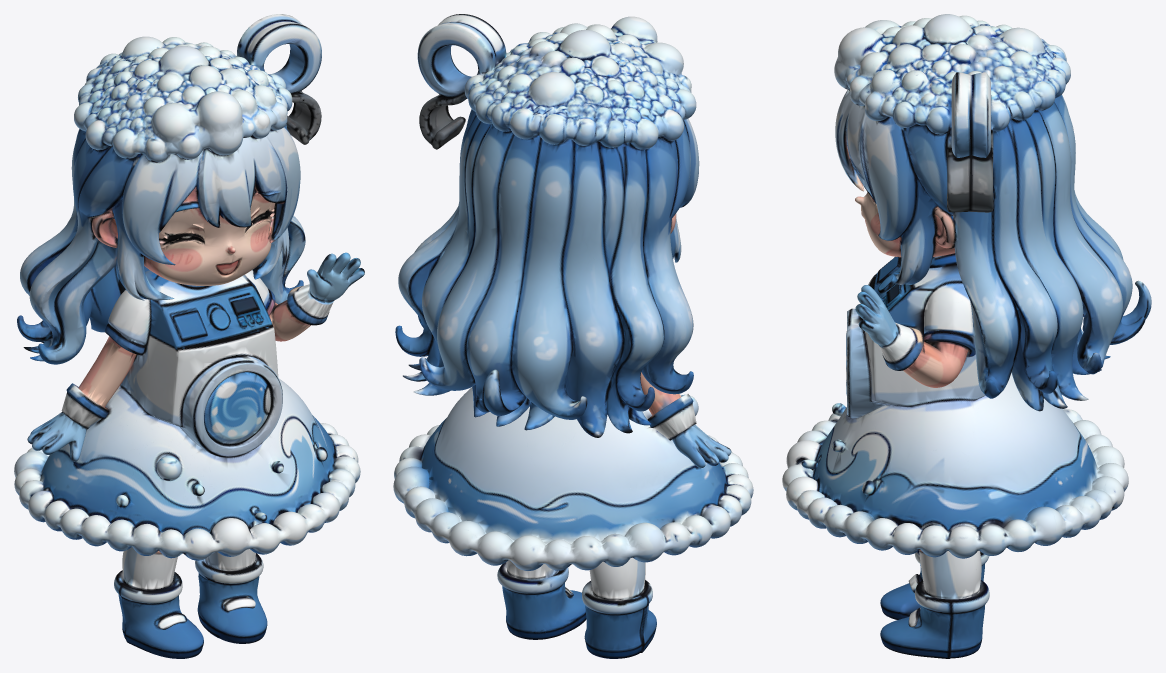
Rendered from mascot.glb.
3 renders of one model, left to right at view 1: azimuth 30°, elevation 25°; view 2: azimuth 150°, elevation 25°; view 3: azimuth 270°, elevation 25°, orthographic. The views are drawn at different scales.
Parts seen in each view (by area): view 1: node_0; view 2: node_0; view 3: node_0.
Boxes of the visible parts, box(x1,y1,x2,y2) form: node_0: box(14, 14, 364, 658); node_0: box(393, 14, 753, 658); node_0: box(782, 14, 1151, 658).
Bounding box in the file's own units: 0.6269 × 1.14 × 0.6289.
Materials: 1 (1 with a texture image).
